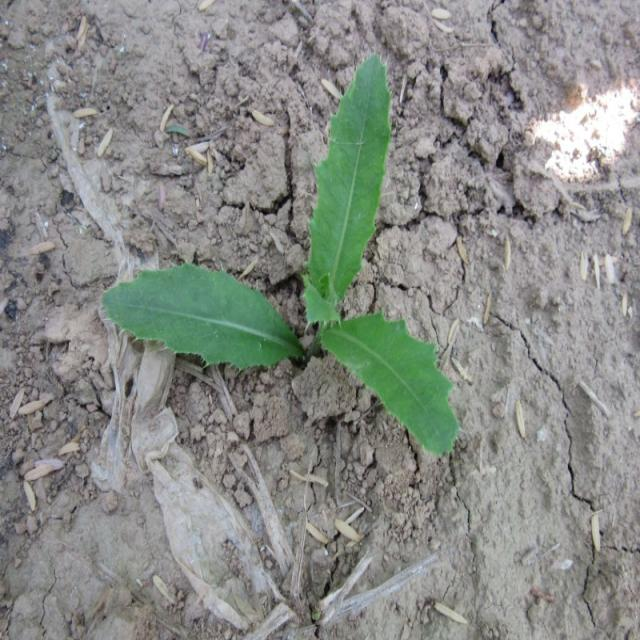field_thistle: (102, 46, 474, 448)
